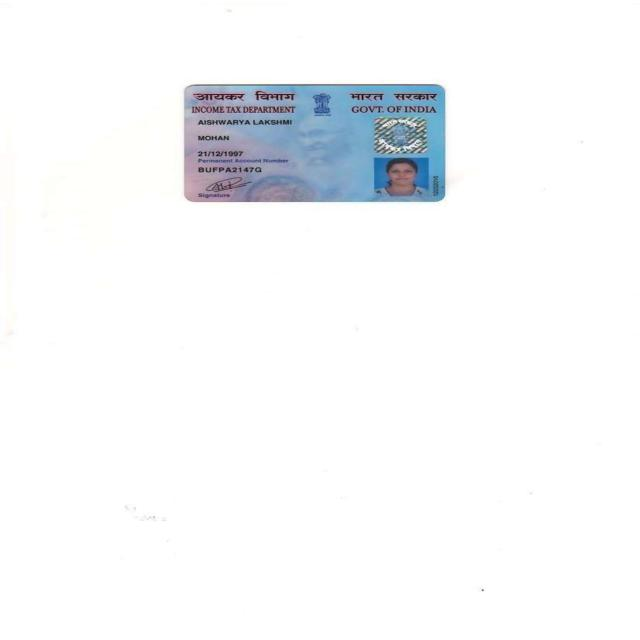pan_card: (189, 86, 446, 199)
